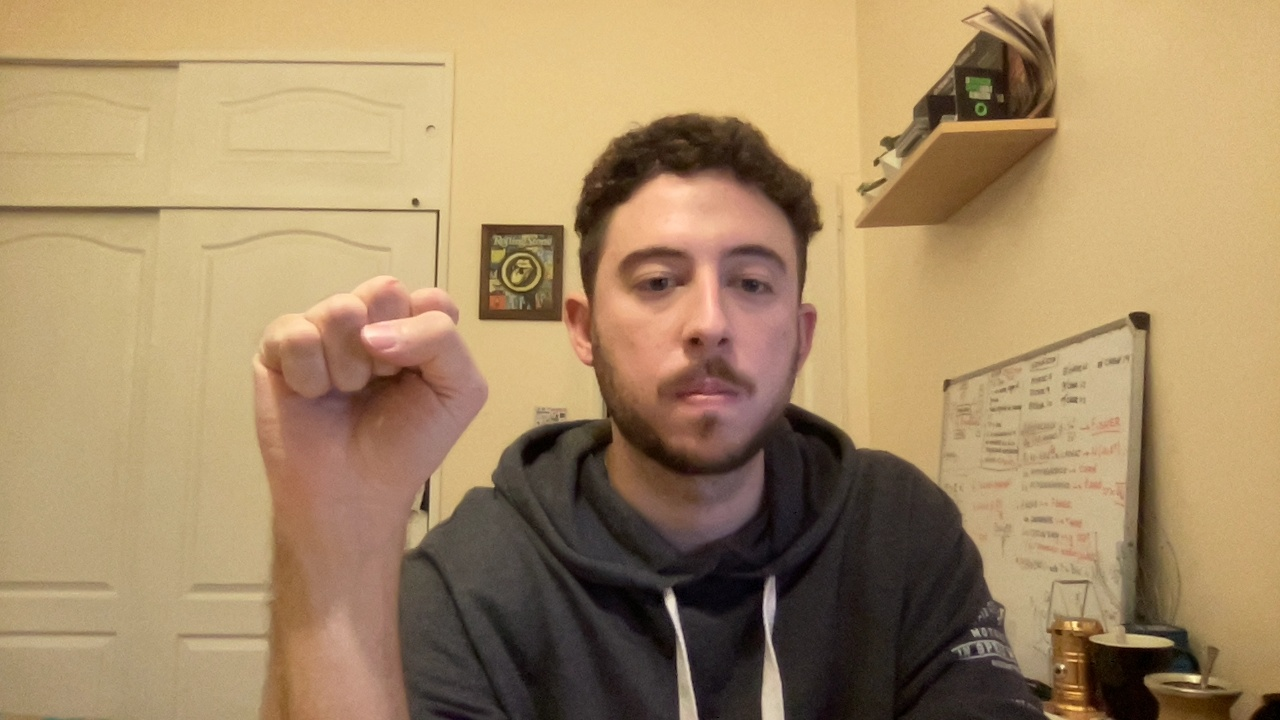cerrado: (232, 272, 496, 498)
